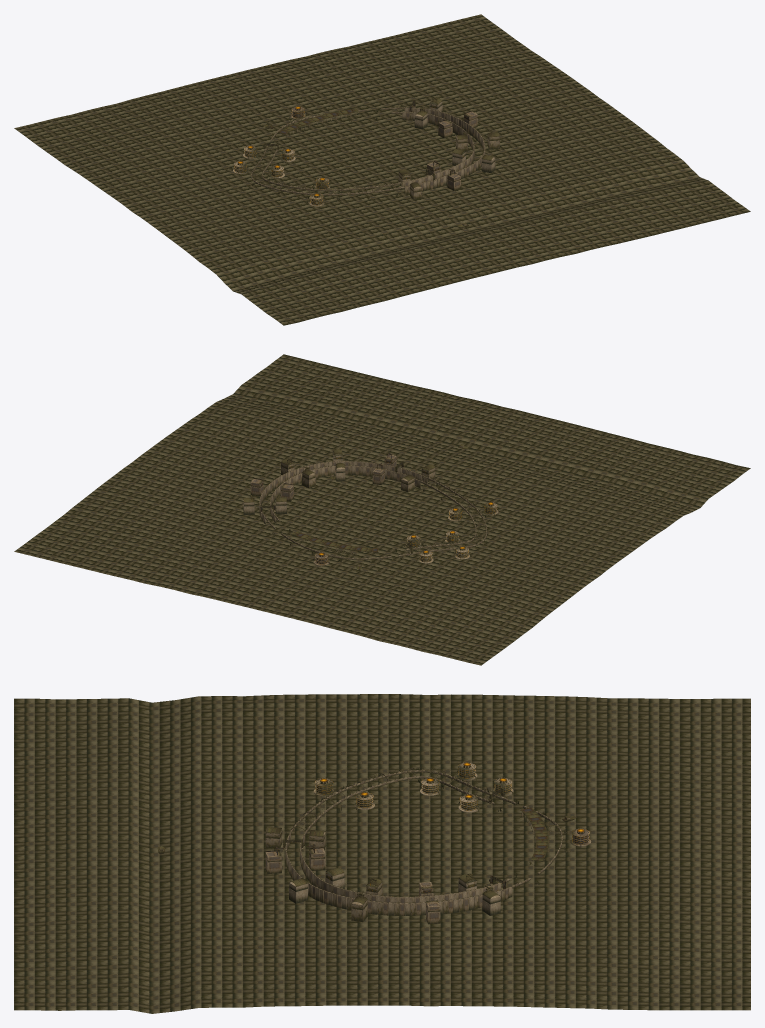
Rendered from foundry_world.glb.
3 renders of one model, top to bottom at view 1: azimuth 30°, elevation 25°; view 2: azimuth 150°, elevation 25°; view 3: azimuth 270°, elevation 25°, orthographic. The views are drawn at different scales.
Parts seen in each view (by area): view 1: GW_SECTOR_BASIN, GW_SECTOR_QUAY_GW_MAT_concrete, GW_SECTOR_DOCKS_GW_MAT_concrete, GW_SECTOR_RETURN_GW_MAT_concrete, GW_SECTOR_REACTOR_GW_MAT_concrete; view 2: GW_SECTOR_BASIN, GW_SECTOR_QUAY_GW_MAT_concrete, GW_SECTOR_DOCKS_GW_MAT_concrete, GW_SECTOR_REACTOR_GW_MAT_concrete, GW_SECTOR_RETURN_GW_MAT_concrete, GW_SECTOR_REENTRY_GW_MAT_concrete; view 3: GW_SECTOR_BASIN, GW_SECTOR_DOCKS_GW_MAT_concrete, GW_SECTOR_QUAY_GW_MAT_concrete, GW_SECTOR_RETURN_GW_MAT_concrete, GW_SECTOR_REACTOR_GW_MAT_concrete, GW_SECTOR_REENTRY_GW_MAT_concrete, GW_SECTOR_LOCK_GW_MAT_metal, GW_SECTOR_QUAY_GW_MAT_metal, GW_SECTOR_DOCKS_GW_MAT_metal, GW_SECTOR_RETURN_GW_MAT_metal, GW_SECTOR_REACTOR_GW_MAT_metal.
Part boxes in pixels (x1,y1,x2,y2): GW_SECTOR_BASIN: (14,14,750,325); GW_SECTOR_QUAY_GW_MAT_concrete: (383,150,495,199); GW_SECTOR_DOCKS_GW_MAT_concrete: (414,101,499,156); GW_SECTOR_RETURN_GW_MAT_concrete: (268,177,385,206); GW_SECTOR_REACTOR_GW_MAT_concrete: (243,106,325,161); GW_SECTOR_BASIN: (14,354,750,665); GW_SECTOR_QUAY_GW_MAT_concrete: (317,452,441,492); GW_SECTOR_DOCKS_GW_MAT_concrete: (243,462,321,515); GW_SECTOR_REACTOR_GW_MAT_concrete: (295,535,434,565); GW_SECTOR_RETURN_GW_MAT_concrete: (433,484,498,533); GW_SECTOR_REENTRY_GW_MAT_concrete: (432,530,486,559); GW_SECTOR_BASIN: (14,694,750,1013); GW_SECTOR_DOCKS_GW_MAT_concrete: (332,879,500,924); GW_SECTOR_QUAY_GW_MAT_concrete: (265,822,344,905); GW_SECTOR_RETURN_GW_MAT_concrete: (297,773,402,826); GW_SECTOR_REACTOR_GW_MAT_concrete: (458,777,591,863); GW_SECTOR_REENTRY_GW_MAT_concrete: (396,762,477,795); GW_SECTOR_LOCK_GW_MAT_metal: (483,807,548,891); GW_SECTOR_QUAY_GW_MAT_metal: (265,816,344,892); GW_SECTOR_DOCKS_GW_MAT_metal: (333,874,500,906); GW_SECTOR_RETURN_GW_MAT_metal: (300,769,402,820); GW_SECTOR_REACTOR_GW_MAT_metal: (458,780,588,847).
Size of the model in its own units: 1700 by 82.33 by 1700.
Materials: 5 (5 with a texture image).
